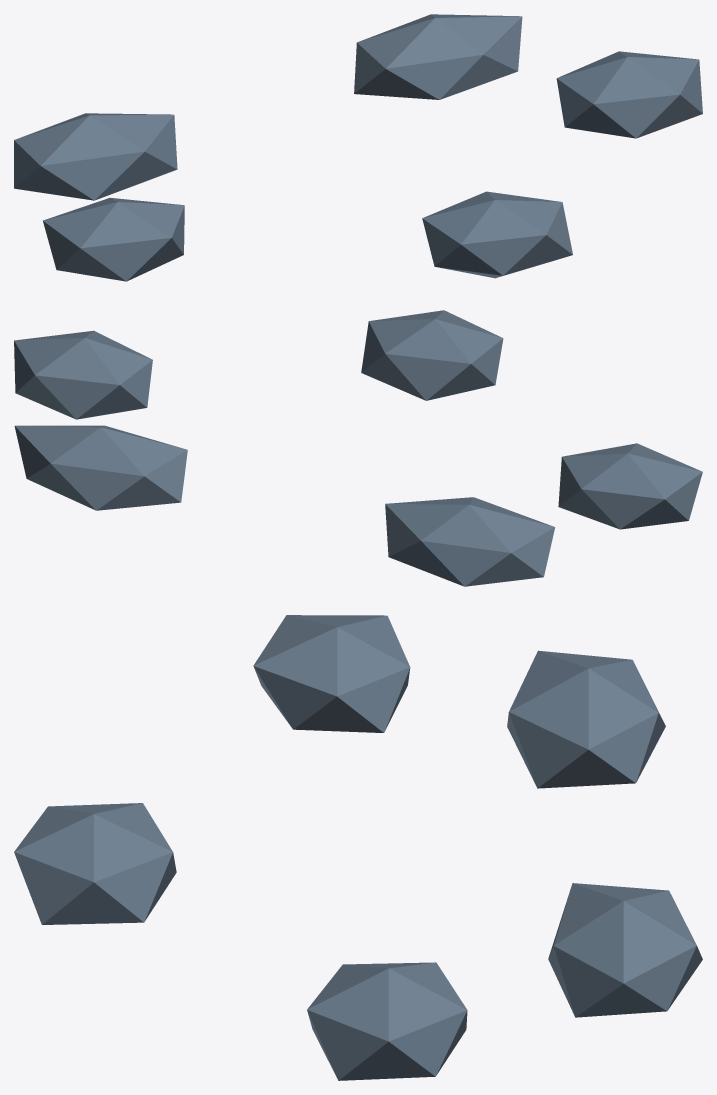
The model's file is enfeite_seixos.glb.
The picture shows the model from 3 angles, top to bottom: view 1: azimuth 30°, elevation 25°; view 2: azimuth 150°, elevation 25°; view 3: azimuth 270°, elevation 25°; orthographic projection. The views are drawn at different scales.
Parts seen in each view (by area): view 1: pedreira_enfeite_seixos; view 2: pedreira_enfeite_seixos; view 3: pedreira_enfeite_seixos.
Boxes of the visible parts, x1,y1,x2,y2 form: pedreira_enfeite_seixos: (14, 14, 702, 281); pedreira_enfeite_seixos: (14, 310, 702, 586); pedreira_enfeite_seixos: (14, 615, 702, 1080).
Size of the model in its own units: 0.4473 by 0.0523 by 0.3027.
